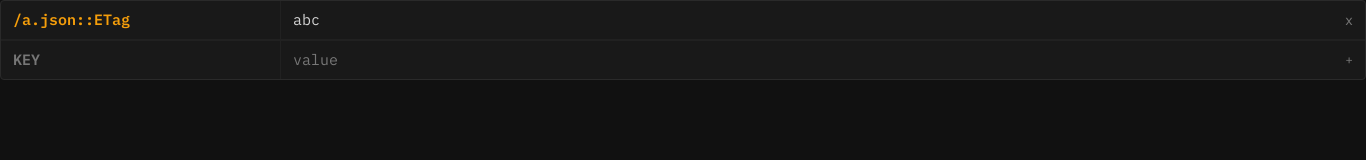
Test: KeyValueField › editable keys (full per-path authoring — Bill ruling) › editing a key to an invalid shape surfaces the keyPattern message
Step 1. Type " BAD" into the field named "Key for /a.json::ETag" → coordinates (140, 20), box [13,8,268,32]
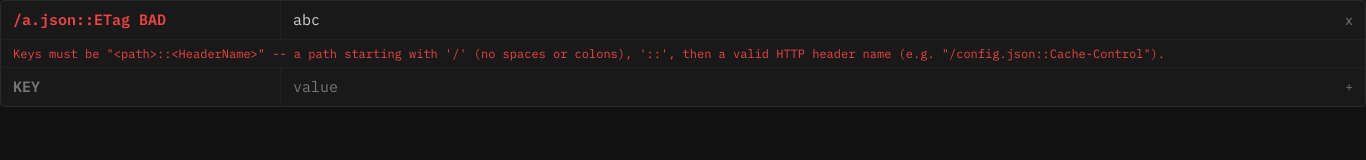
Result: the text "Keys must be \"<path>::<HeaderName>\" -- a path starting with '/' (no spaces or colons), '::', then a valid HTTP header na" is shown at [13,46,1165,61]
